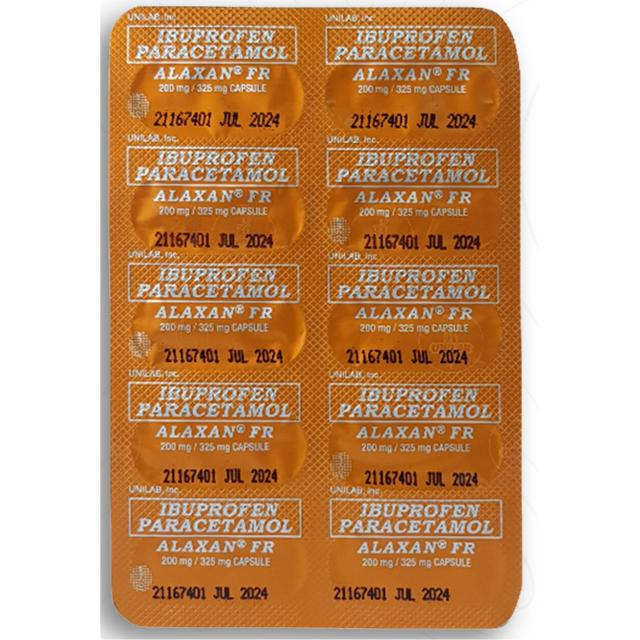blister: (108, 3, 526, 634)
